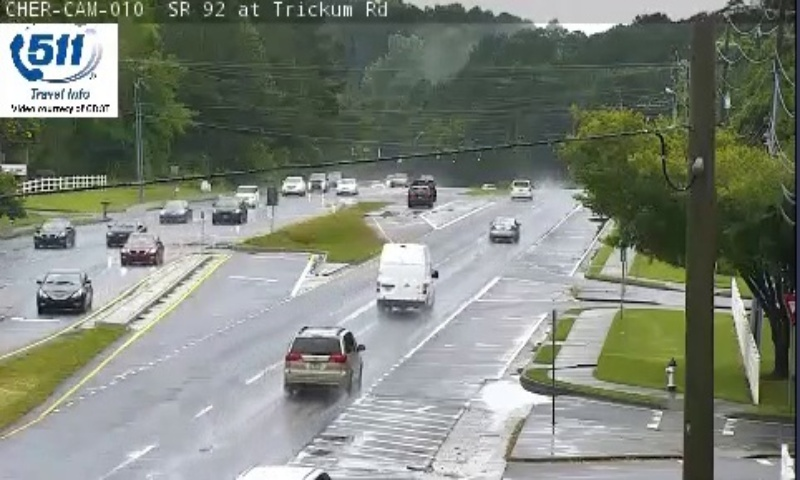car: (285, 328, 361, 387), (489, 218, 519, 240), (510, 180, 532, 198)
van: (378, 243, 431, 306)
